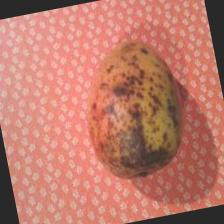Mango Overripe: (72, 31, 196, 189)
